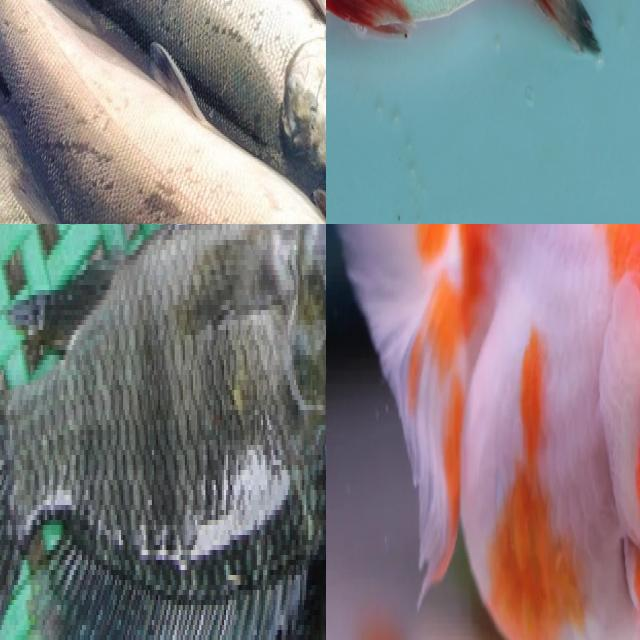fish: (121, 224, 326, 640), (0, 0, 326, 224)
